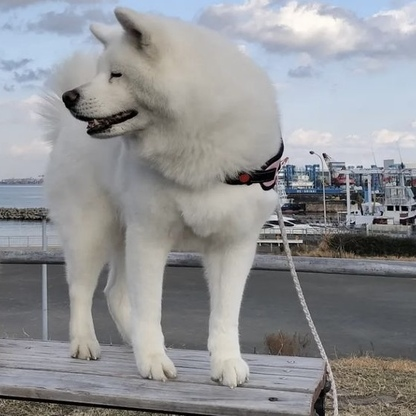akita: (27, 3, 295, 391)
